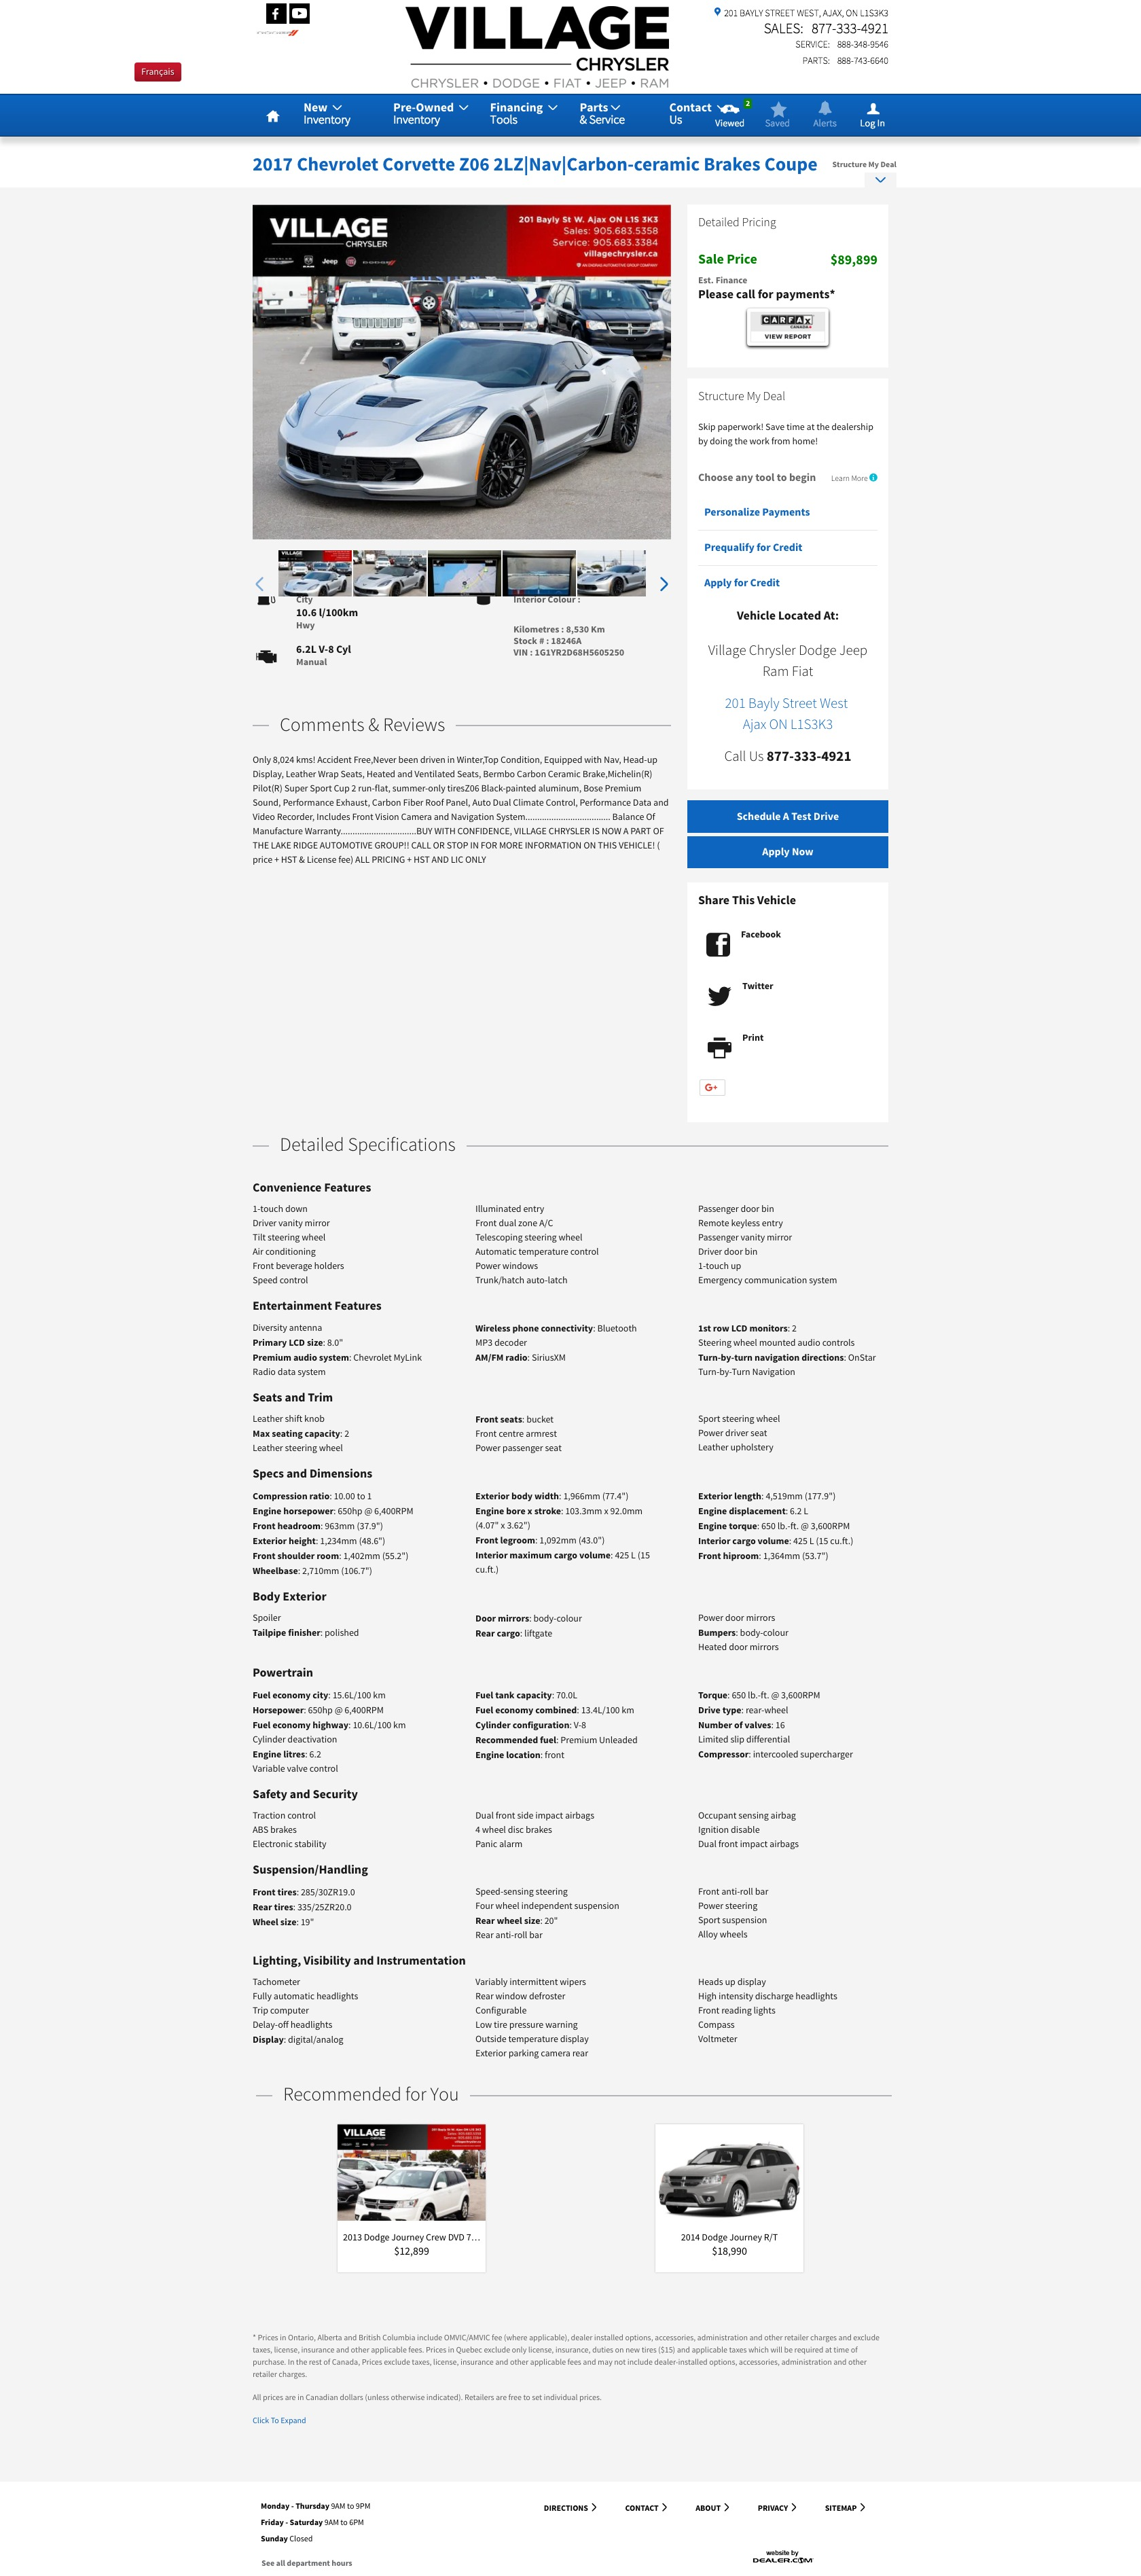car: (660, 577, 668, 593)
